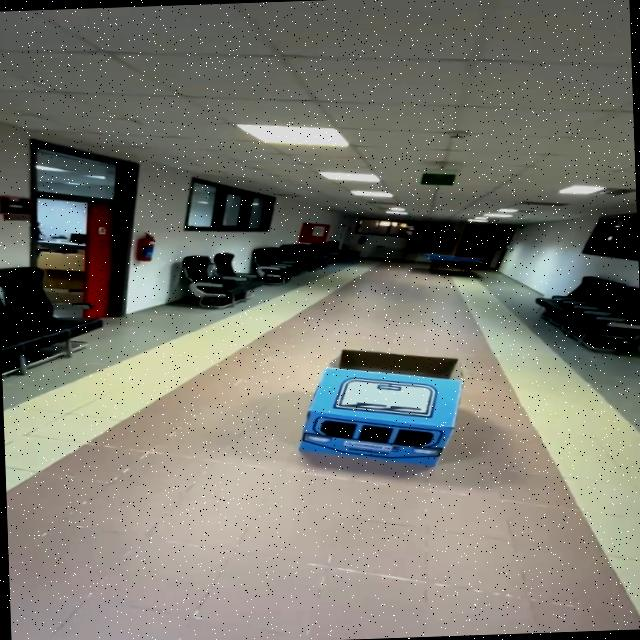blue_car: (260, 335, 504, 498)
